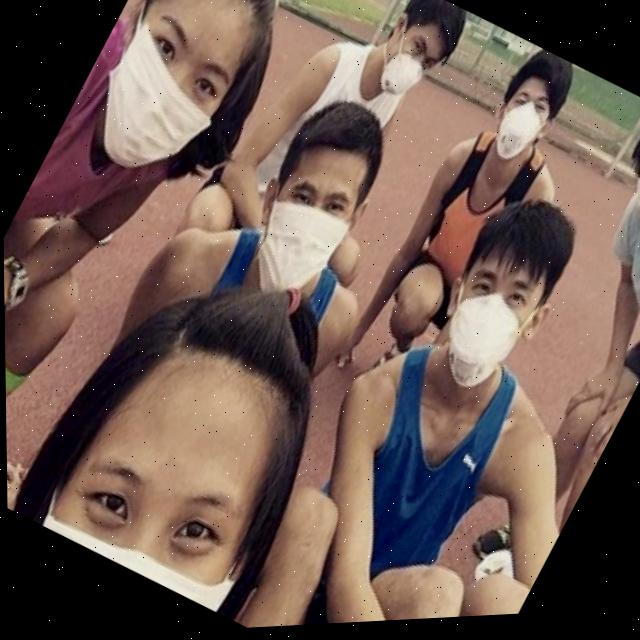Mask: (58, 0, 258, 205), (223, 167, 376, 323), (409, 263, 556, 416), (360, 5, 458, 117), (476, 88, 563, 183), (618, 125, 640, 250)
